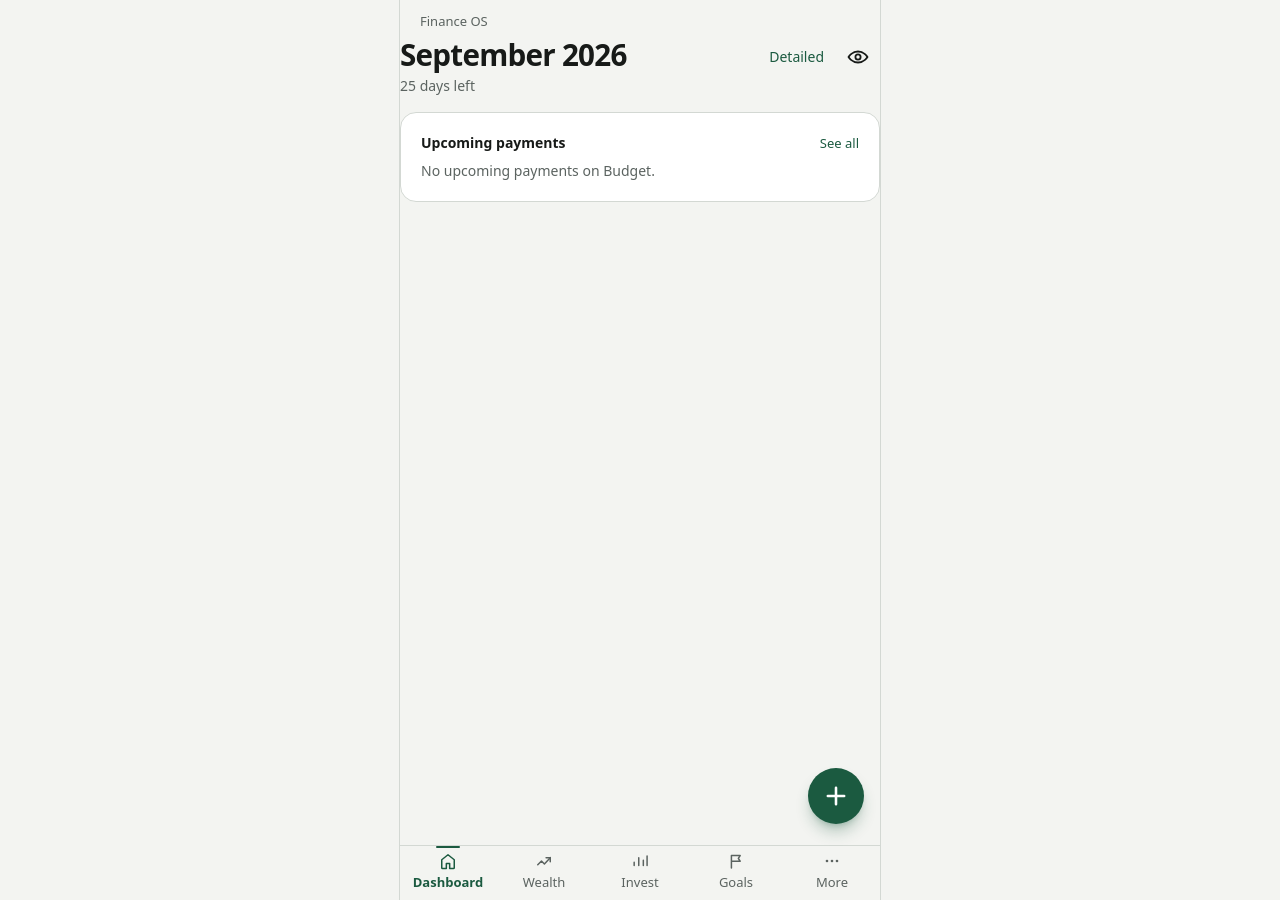
Test: app shell › shows an inline hint when there is no credit card to pay
Step 1. Click the button named "Quick Add" → (836, 796), box top-left (808, 768), bottom-right (864, 824)
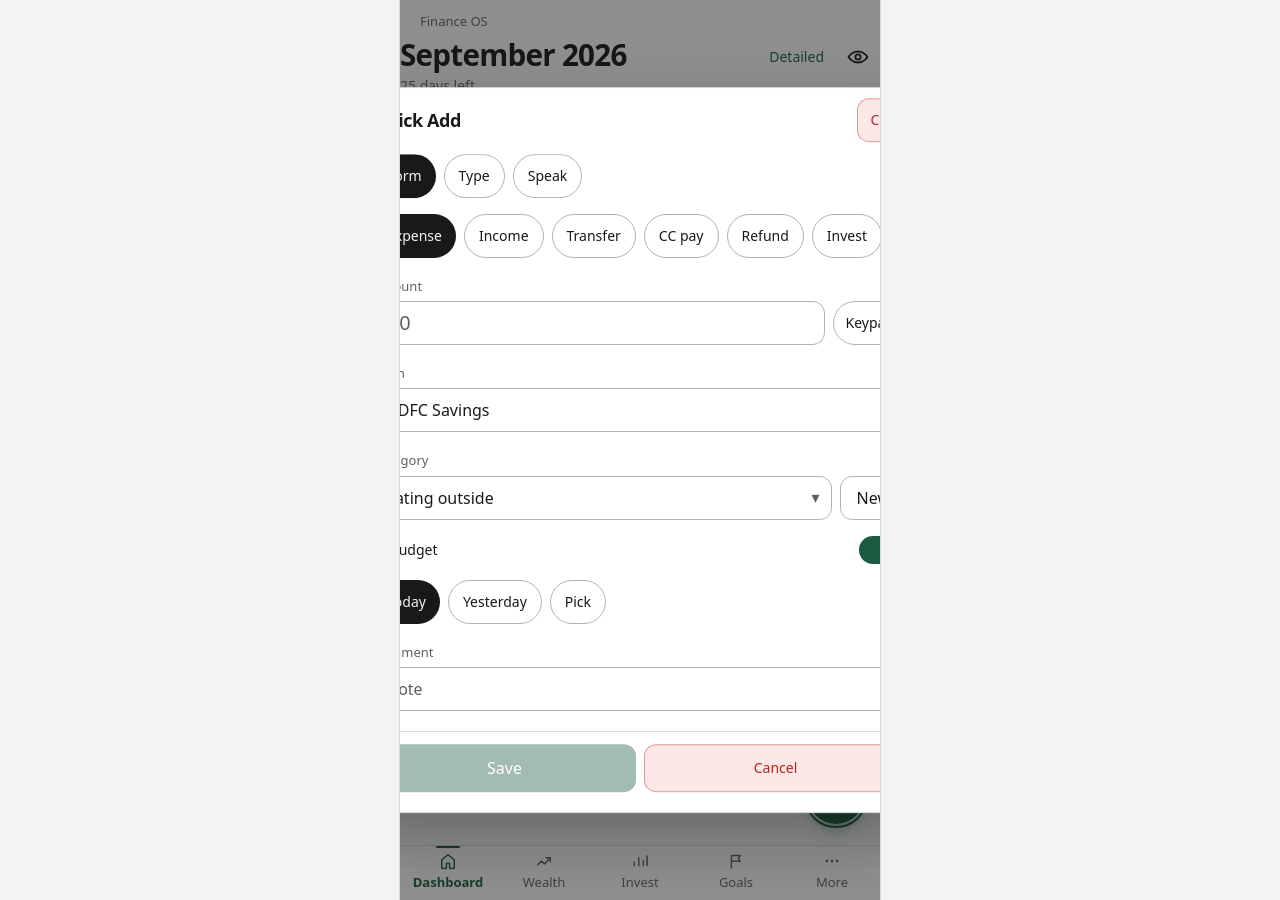
expect the radio button labelled "Expense" is checked: met, box top-left (400, 214), bottom-right (456, 258)
Step 2. Click the radio button labelled "CC pay" → (681, 236), box top-left (644, 214), bottom-right (718, 258)
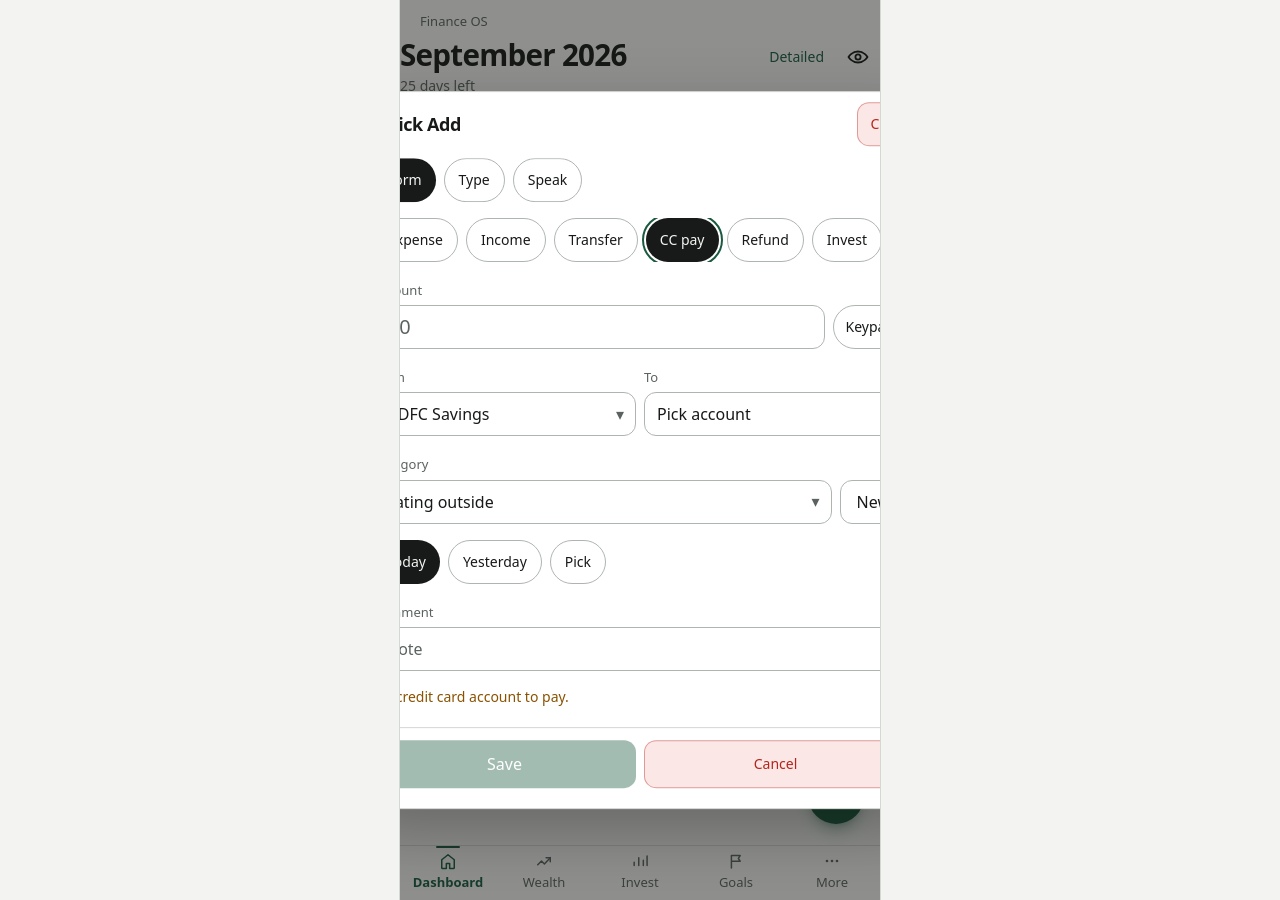
expect the button "Save" is disabled: met, box top-left (400, 740), bottom-right (636, 788)
expect the list item "No credit card account to pay." is shown: met, box top-left (400, 687), bottom-right (569, 706)
